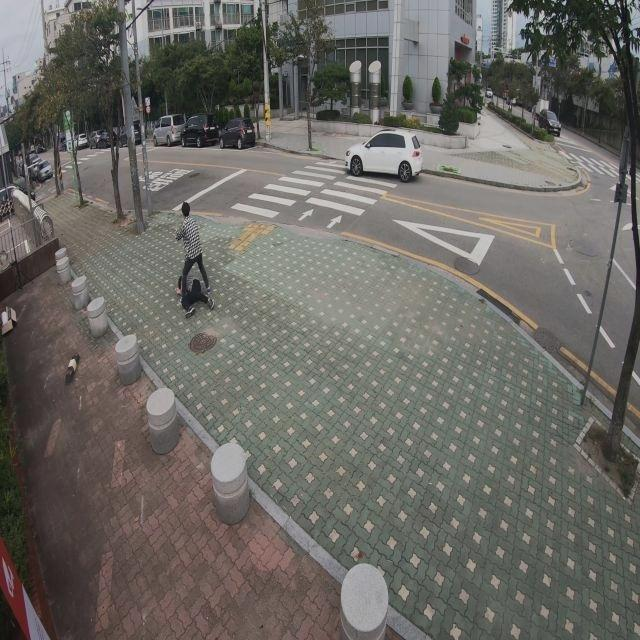fight: (172, 199, 212, 314)
